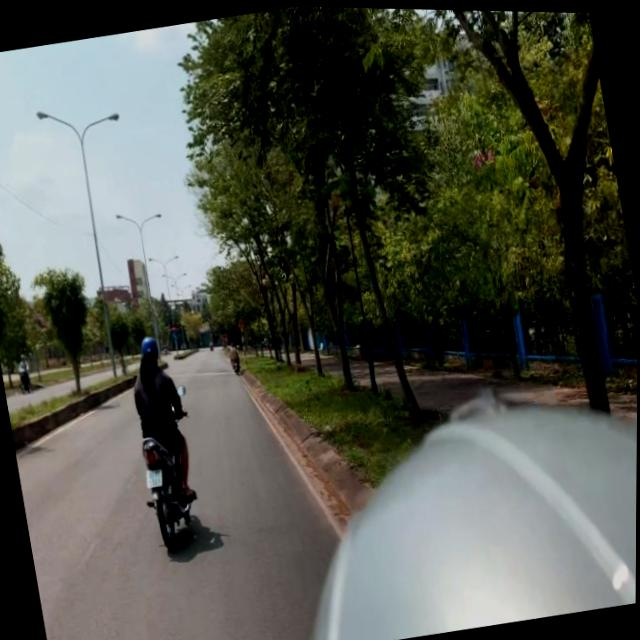Cam di nguoc chieu: (171, 323, 177, 331)
Giao nhau voi duong khong uu tien ben phai: (237, 316, 246, 328)
Vong chuong ngai vat sang phai: (172, 331, 178, 339)
